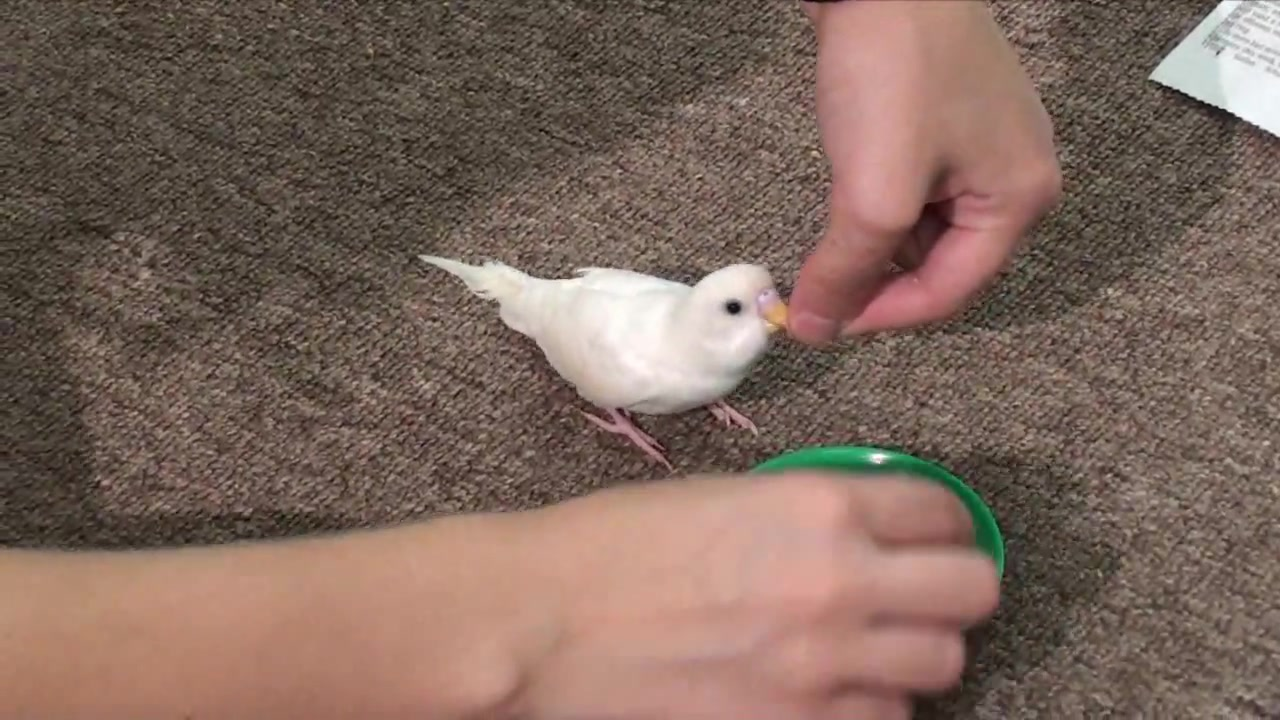bird: (420, 256, 789, 472)
